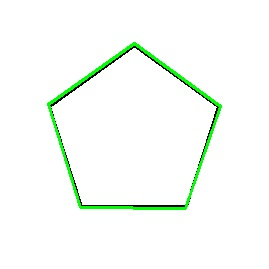line_segment: (48, 43, 221, 209)
